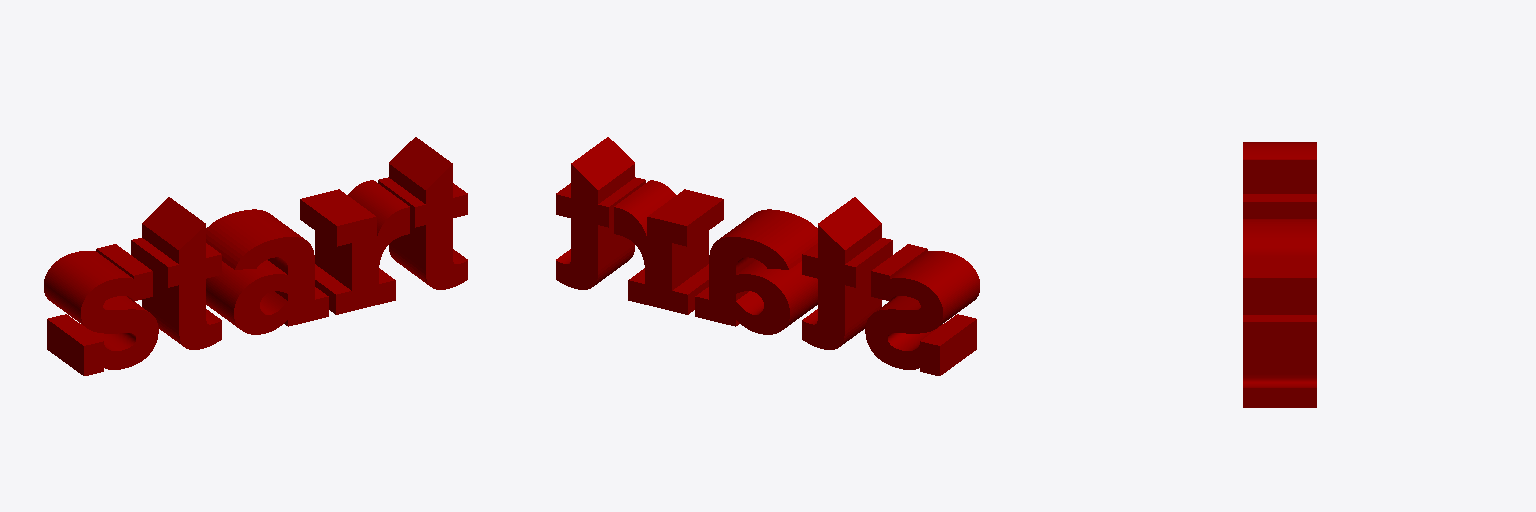
File: start.obj
3 renders of one model, left to right at view 1: azimuth 30°, elevation 25°; view 2: azimuth 150°, elevation 25°; view 3: azimuth 270°, elevation 25°, orthographic.
Visible parts, largest first — view 1: Text; view 2: Text; view 3: Text.
Part boxes in pixels (left/top/right/bottom): Text: left=44, top=137, right=467, bottom=375; Text: left=556, top=137, right=979, bottom=375; Text: left=1243, top=142, right=1316, bottom=407.
Bounding box in the file's own units: 1.97 × 0.6057 × 0.3271.